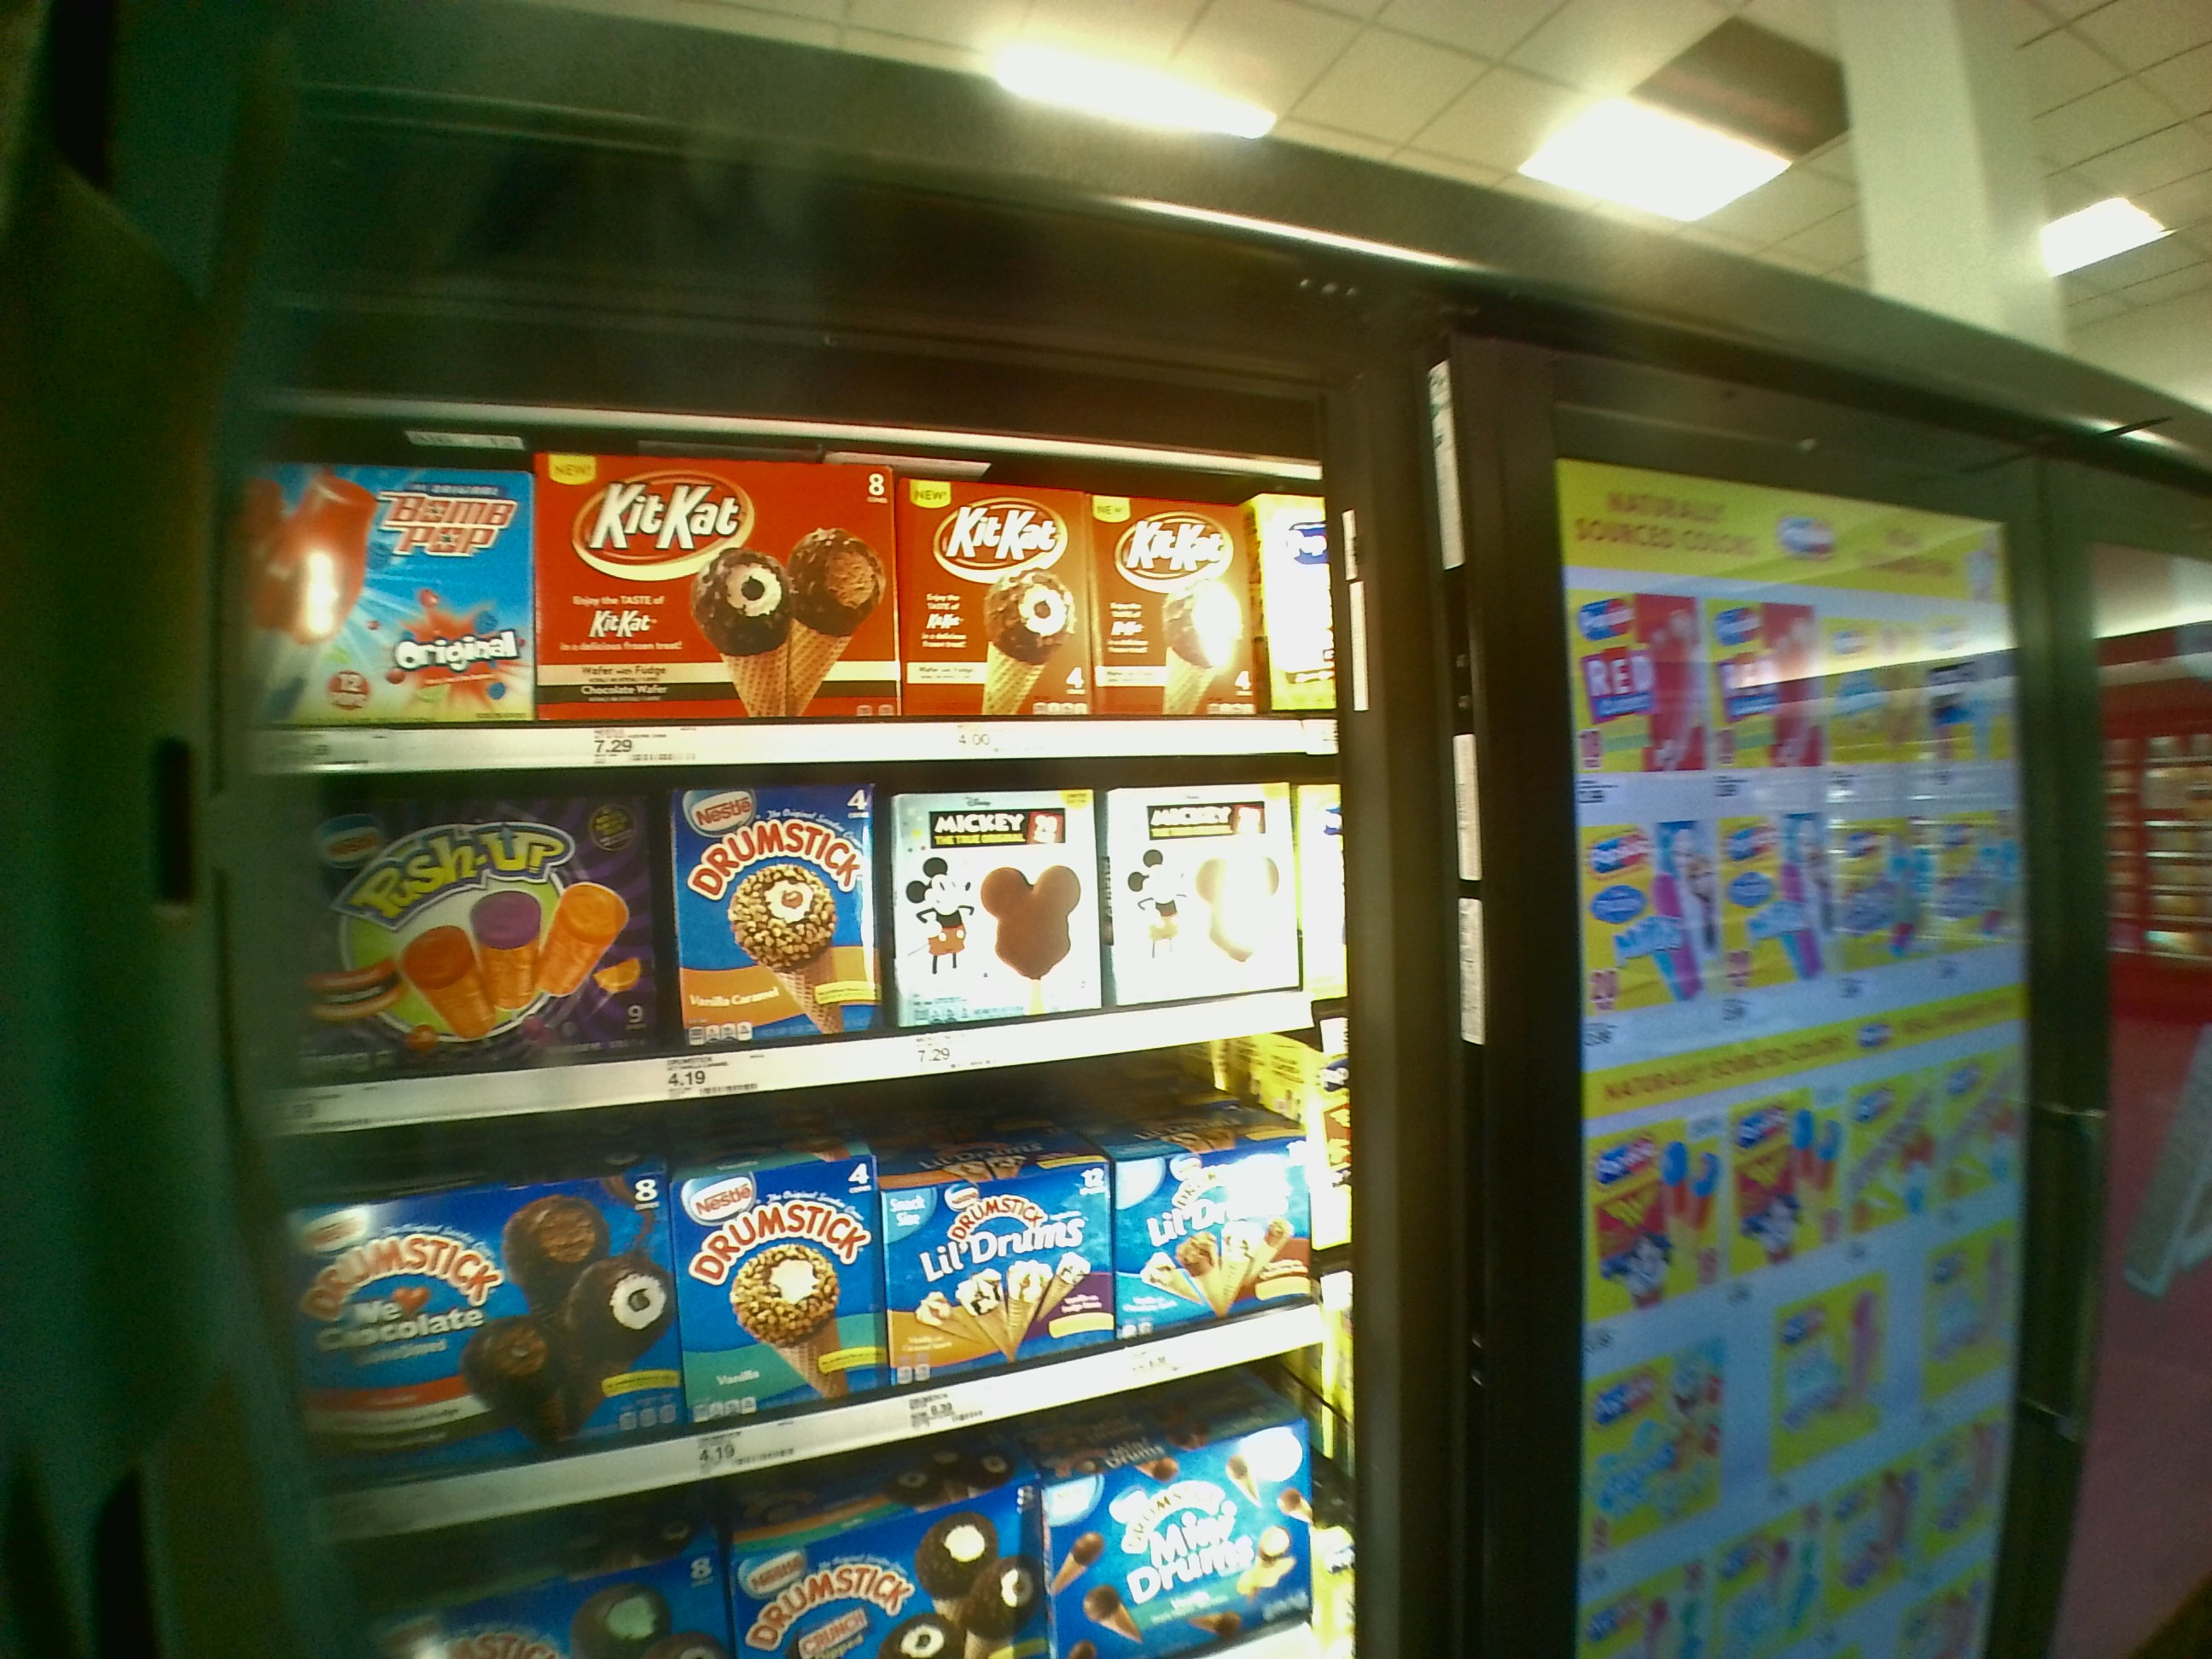shelf: (282, 1065, 1350, 1474), (226, 415, 1334, 755), (246, 769, 1324, 1103)
